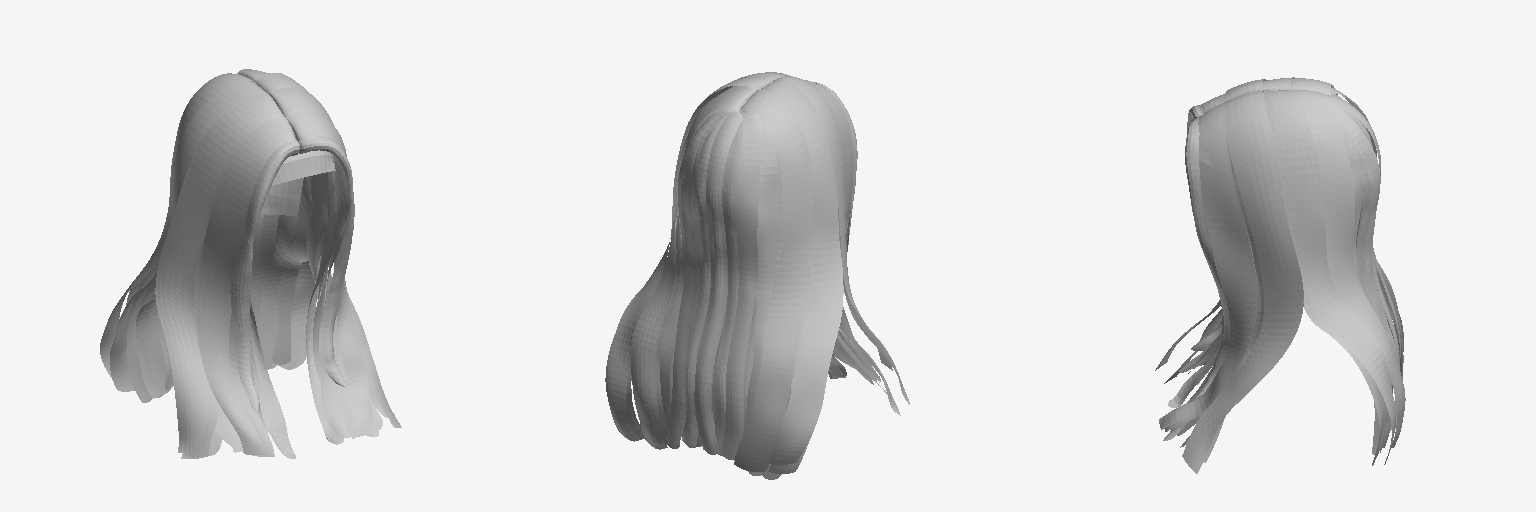
Rendered from hair3.obj.
The picture shows the model from 3 angles: view 1: azimuth 30°, elevation 25°; view 2: azimuth 150°, elevation 25°; view 3: azimuth 270°, elevation 25°; orthographic projection.
Visible parts, largest first — view 1: neck; view 2: neck; view 3: neck.
Boxes of the visible parts, x1,y1,x2,y2 form: neck: [100, 69, 401, 458]; neck: [605, 72, 909, 479]; neck: [1155, 77, 1405, 473].
Bounding box in the file's own units: 0.1209 × 0.1798 × 0.1191.